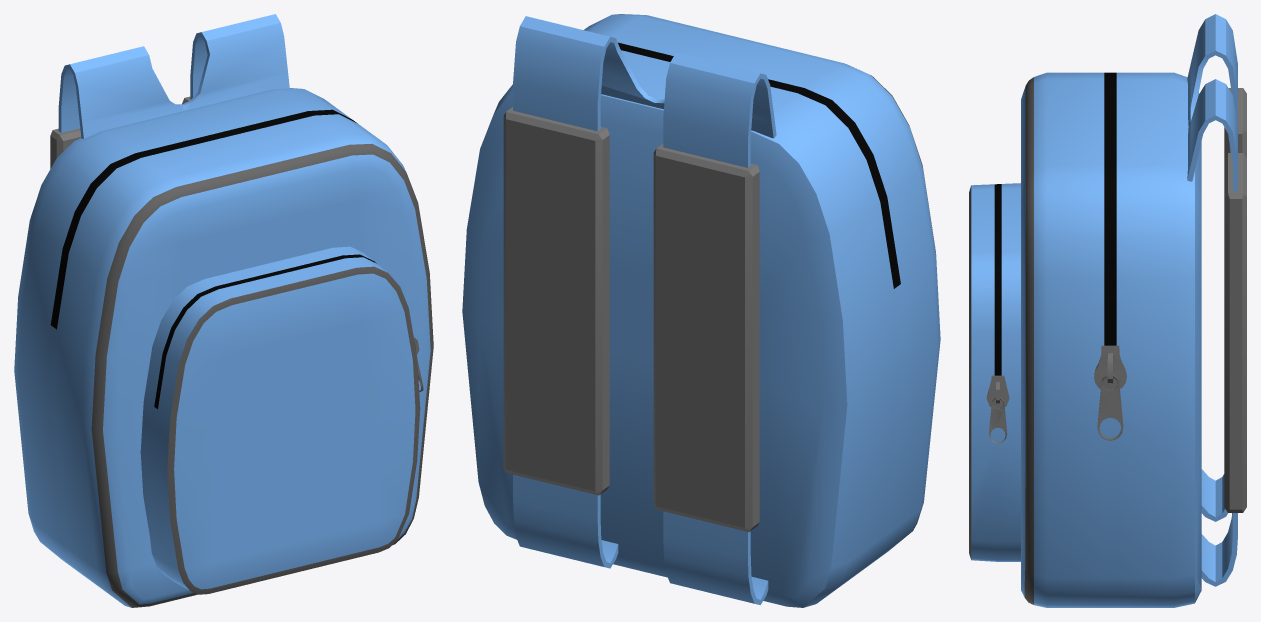
File: Bag.fbx
3 renders of one model, left to right at view 1: azimuth 30°, elevation 25°; view 2: azimuth 150°, elevation 25°; view 3: azimuth 270°, elevation 25°, orthographic. The views are drawn at different scales.
Visible parts, largest first — view 1: Bag Blue; view 2: Bag Blue; view 3: Bag Blue.
Part boxes in pixels (x1,y1,x2,y2): Bag Blue: (14, 14, 433, 607); Bag Blue: (462, 14, 940, 607); Bag Blue: (969, 14, 1246, 607).
Bounding box in the file's own units: 44.72 × 55.52 × 29.03.
